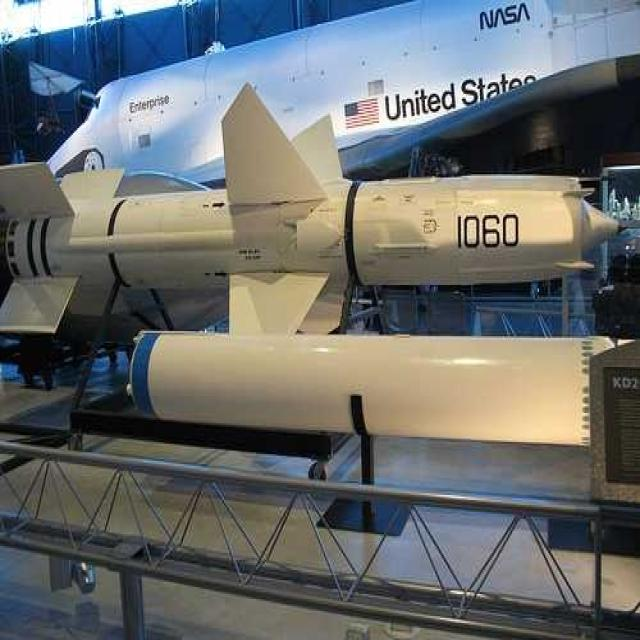missile: (3, 87, 621, 326)
